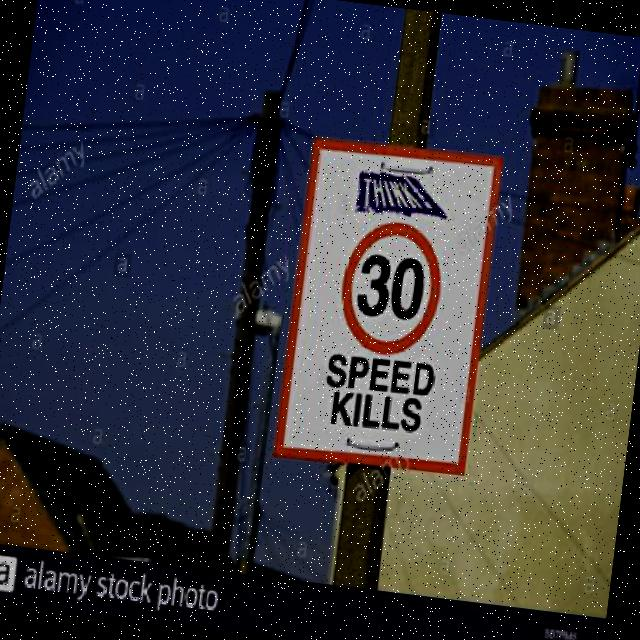Ograniczenie predkosci do 30: (334, 222, 456, 362)
